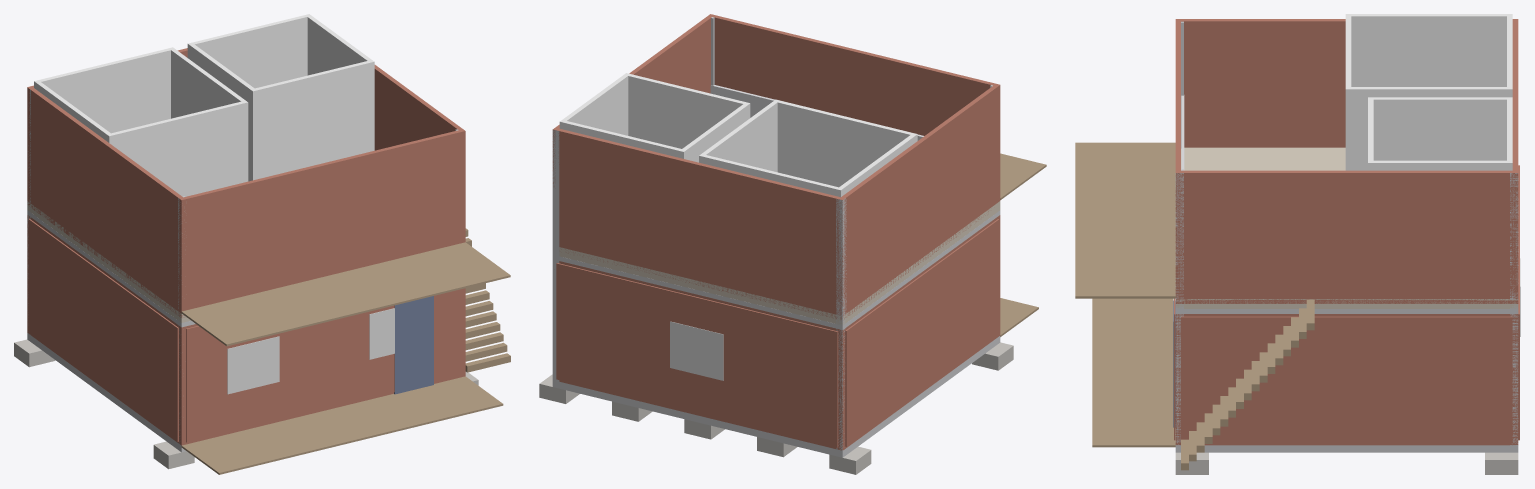
File: Duplex-20-Base-OxidisedRed-LOD2.glb
3 renders of one model, left to right at view 1: azimuth 30°, elevation 25°; view 2: azimuth 150°, elevation 25°; view 3: azimuth 270°, elevation 25°, orthographic. The views are drawn at different scales.
Visible parts, largest first — view 1: ExteriorShellUpper, ExteriorPanelsStandard, StudyUpper, BedroomUpper, BalconyUpper, BalconyGround, WindowsStandard, EntryDoor, StaircaseExternal, ExteriorShell, FoundationBlocks, FloorUpper (+2 smaller); view 2: ExteriorShellUpper, ExteriorPanelsStandard, BedroomUpper, StudyUpper, FloorUpper, VerticalStructure, FoundationBlocks, BaseFrame, ExteriorShell, WindowsStandard, TopFrame, BalconyUpper (+2 smaller); view 3: ExteriorShellUpper, ExteriorPanelsStandard, BalconyUpper, BedroomUpper, BalconyGround, StudyUpper, FloorUpper, StaircaseExternal, ExteriorShell, VerticalStructure, BaseFrame, TopFrame (+1 smaller).
Boxes of the visible parts, box(x1,y1,x2,y2) form: ExteriorShellUpper: box(27, 48, 465, 317); ExteriorPanelsStandard: box(28, 218, 461, 442); StudyUpper: box(187, 14, 374, 181); BedroomUpper: box(34, 47, 248, 196); BalconyUpper: box(181, 242, 510, 346); BalconyGround: box(181, 376, 503, 474); WindowsStandard: box(227, 308, 394, 394); EntryDoor: box(394, 296, 433, 394); StaircaseExternal: box(465, 228, 510, 372); ExteriorShell: box(27, 215, 465, 445); FoundationBlocks: box(14, 339, 478, 469); FloorUpper: box(27, 201, 190, 322); ExteriorShellUpper: box(552, 14, 1000, 319); ExteriorPanelsStandard: box(556, 219, 999, 447); BedroomUpper: box(699, 99, 917, 197); StudyUpper: box(559, 73, 750, 162); FloorUpper: box(559, 201, 1000, 325); VerticalStructure: box(552, 17, 998, 450); FoundationBlocks: box(539, 342, 1013, 474); BaseFrame: box(552, 336, 1000, 457); ExteriorShell: box(559, 215, 1000, 450); WindowsStandard: box(670, 321, 723, 380); TopFrame: box(559, 210, 1000, 329); BalconyUpper: box(1000, 153, 1046, 199); ExteriorShellUpper: box(1175, 19, 1518, 303); ExteriorPanelsStandard: box(1174, 165, 1519, 443); BalconyUpper: box(1075, 142, 1175, 298); BedroomUpper: box(1345, 14, 1512, 170); BalconyGround: box(1092, 298, 1175, 447); StudyUpper: box(1368, 97, 1512, 170); FloorUpper: box(1175, 147, 1518, 308); StaircaseExternal: box(1181, 299, 1314, 470); ExteriorShell: box(1175, 314, 1518, 445); VerticalStructure: box(1175, 21, 1518, 445); BaseFrame: box(1175, 445, 1518, 452); TopFrame: box(1175, 309, 1518, 313).
Size of the model in its own units: 7.94 by 6 by 8.
